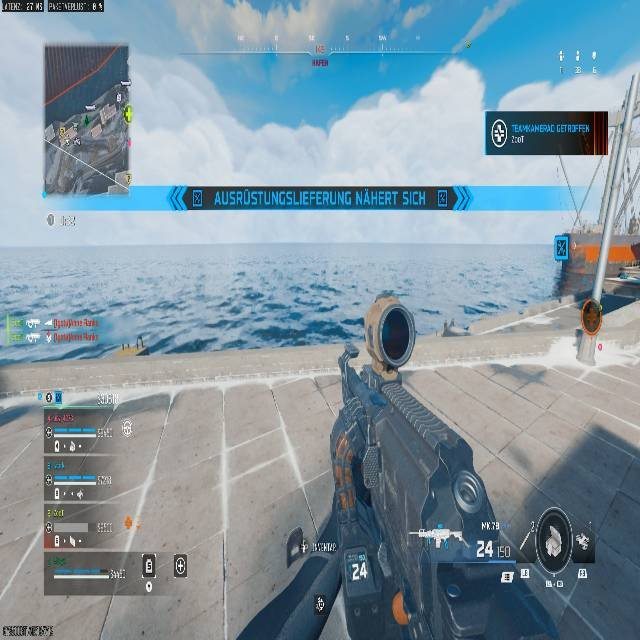player: (576, 292, 605, 362)
